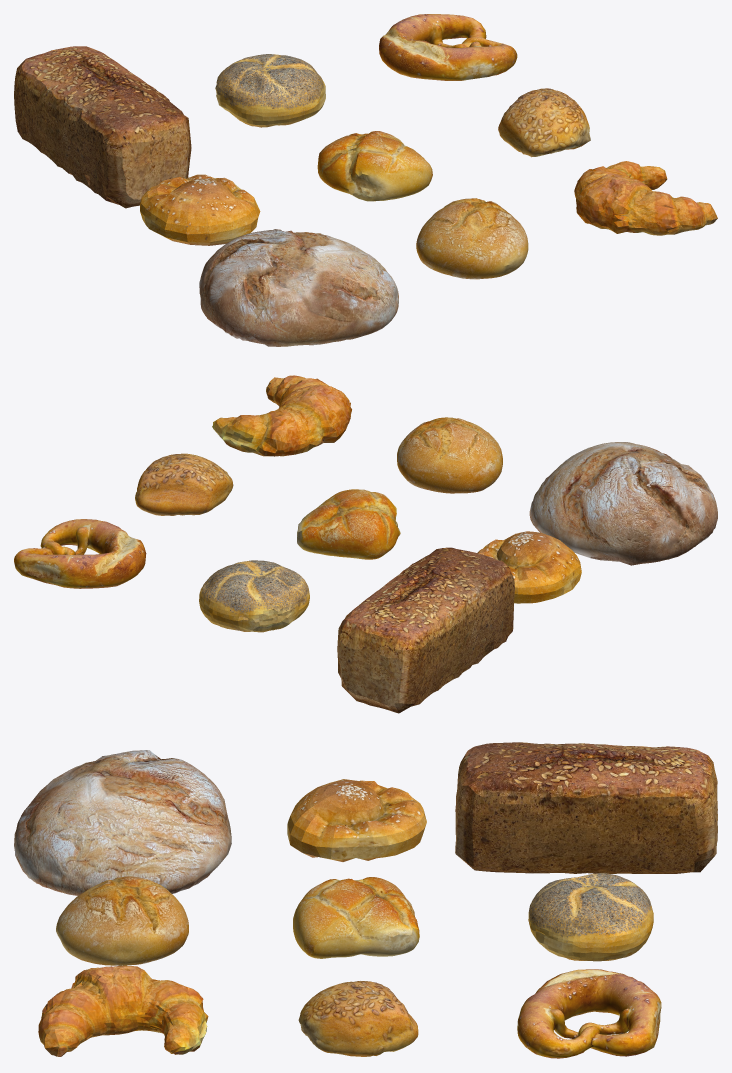
Rendered from asset.glb.
3 views of the same model, one above another, from view 1: azimuth 30°, elevation 25°; view 2: azimuth 150°, elevation 25°; view 3: azimuth 270°, elevation 25° (orthographic). The views are drawn at different scales.
Parts seen in each view (by area): view 1: Object_10, Object_5, Object_7, Object_3, Object_8, Object_9, Object_2, Object_6, Object_4; view 2: Object_10, Object_5, Object_7, Object_8, Object_3, Object_2, Object_6, Object_4, Object_9; view 3: Object_10, Object_5, Object_7, Object_8, Object_3, Object_9, Object_2, Object_6, Object_4.
Boxes of the visible parts, x1,y1,x2,y2 form: Object_10: (14,46,191,208); Object_5: (199,229,398,346); Object_7: (574,161,717,235); Object_3: (416,198,528,279); Object_8: (379,14,517,80); Object_9: (139,174,260,245); Object_2: (215,54,325,127); Object_6: (317,131,432,201); Object_4: (498,88,590,157); Object_10: (337,547,514,713); Object_5: (529,442,717,565); Object_7: (212,375,351,456); Object_8: (14,519,146,588); Object_3: (397,417,502,493); Object_2: (199,560,309,632); Object_6: (297,489,400,559); Object_4: (135,453,233,515); Object_9: (477,531,581,603); Object_10: (455,742,717,873); Object_5: (14,750,231,895); Object_7: (38,965,208,1056); Object_8: (517,969,661,1058); Object_3: (56,876,188,965); Object_9: (287,779,426,861); Object_2: (528,873,653,961); Object_6: (293,877,419,958); Object_4: (298,981,418,1056).
Size of the model in its own units: 0.5579 by 0.1024 by 0.6017.
Materials: 9 (9 with a texture image).
